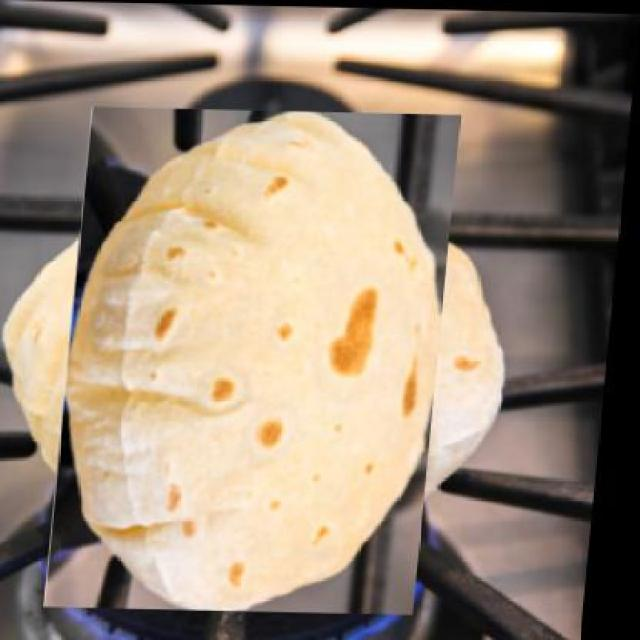chapati: (26, 139, 497, 584)
